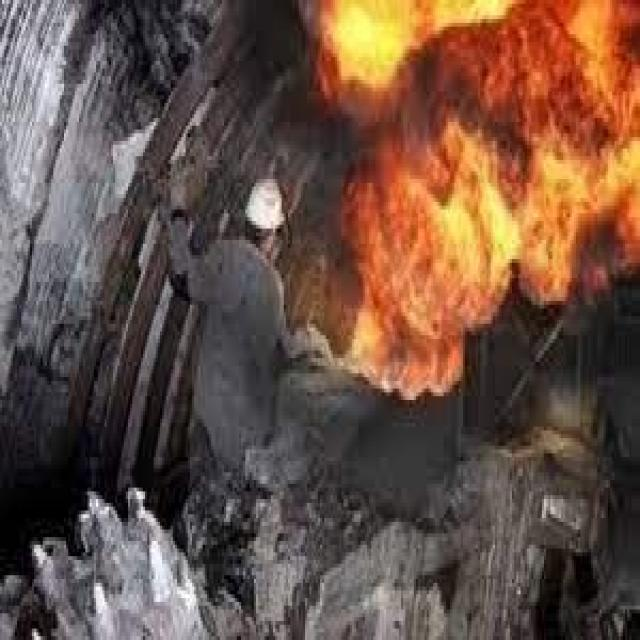Fire: (292, 5, 640, 398)
